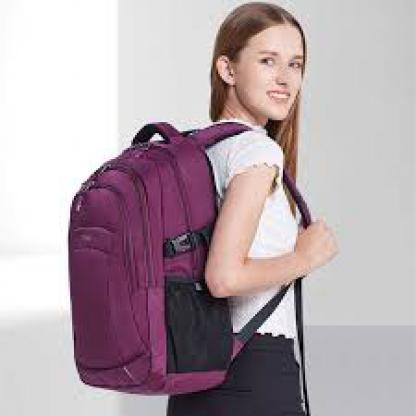morral: (42, 115, 288, 399)
